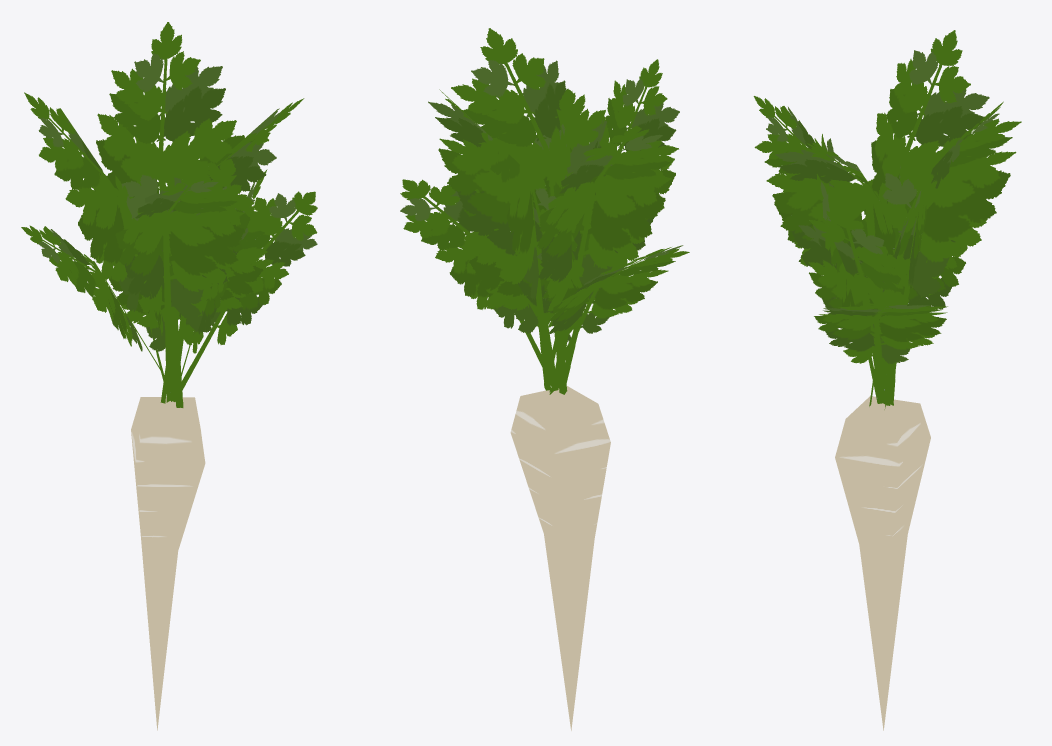
The model's file is PT_Parsnip_01.fbx.
The picture shows the model from 3 angles, left to right: view 1: azimuth 30°, elevation 25°; view 2: azimuth 150°, elevation 25°; view 3: azimuth 270°, elevation 25°; orthographic projection. The views are drawn at different scales.
Visible parts, largest first — view 1: PT_Parsnip_01_LOD0; view 2: PT_Parsnip_01_LOD0; view 3: PT_Parsnip_01_LOD0.
Part boxes in pixels (bbox=[...]): PT_Parsnip_01_LOD0: bbox=[21, 22, 317, 730]; PT_Parsnip_01_LOD0: bbox=[400, 28, 689, 730]; PT_Parsnip_01_LOD0: bbox=[753, 30, 1021, 730].
Size of what is drawn, in the model's own units: 39.89 by 84.62 by 34.42.
